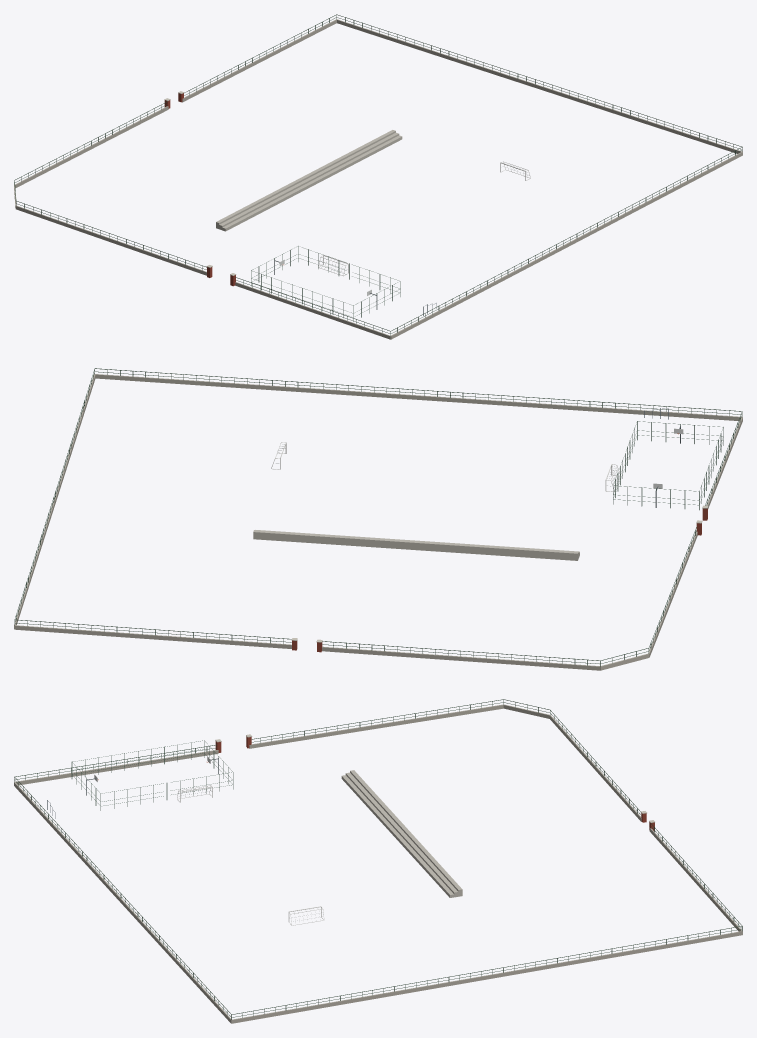
3 renders of one model, top to bottom at view 1: azimuth 30°, elevation 25°; view 2: azimuth 150°, elevation 25°; view 3: azimuth 270°, elevation 25°, orthographic. The views are drawn at different scales.
Parts seen in each view (by area): view 1: site-wall-concrete, site-fence, site-stand-concrete, site-court-fence; view 2: site-wall-concrete, site-fence, site-stand-concrete, site-court-fence; view 3: site-wall-concrete, site-fence, site-stand-concrete, site-court-fence.
Boxes of the visible parts, x1,y1,x2,y2 form: site-wall-concrete: (14, 19, 742, 339); site-fence: (14, 14, 742, 335); site-stand-concrete: (216, 130, 402, 231); site-court-fence: (251, 246, 400, 321); site-wall-concrete: (14, 374, 742, 670); site-fence: (14, 368, 742, 666); site-stand-concrete: (253, 530, 579, 560); site-court-fence: (613, 421, 723, 510); site-wall-concrete: (14, 704, 742, 1023); site-fence: (14, 699, 742, 1019); site-stand-concrete: (341, 770, 462, 897); site-court-fence: (71, 740, 233, 810).
Bounding box in the file's own units: 158 × 4.3 × 154.
